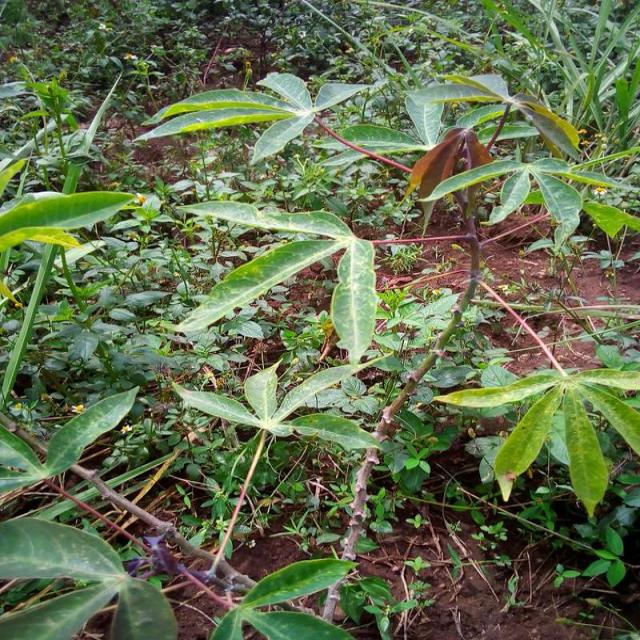cassava leaf: (174, 236, 346, 334), (1, 188, 140, 250), (331, 235, 378, 362)
